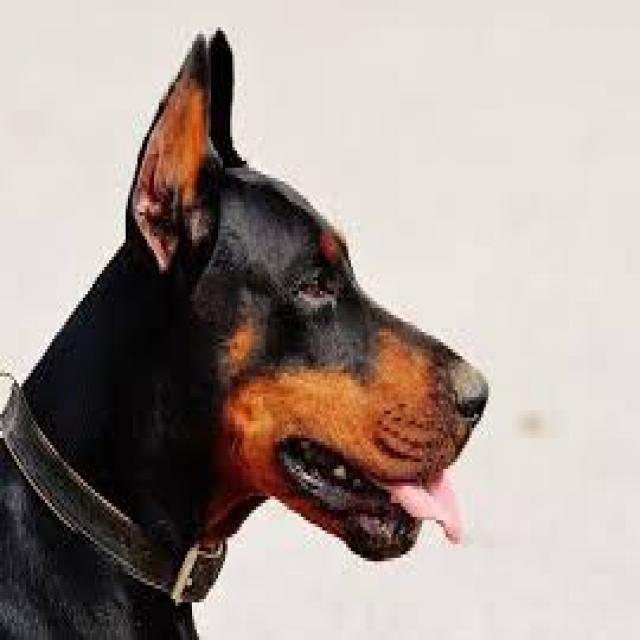Dog: (0, 23, 494, 640)
